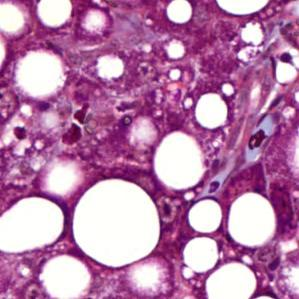steatosis: (75, 183, 160, 269), (222, 191, 283, 248), (154, 132, 208, 188), (180, 233, 219, 274), (194, 88, 230, 130), (190, 199, 222, 233), (167, 0, 193, 25)
